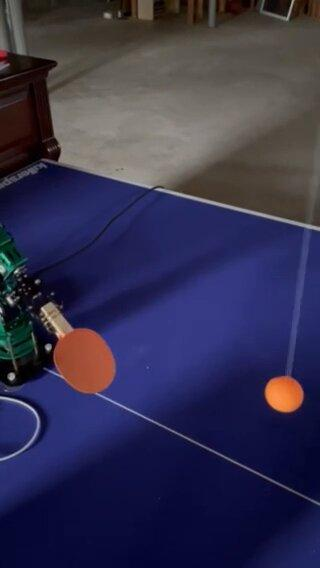oball: (263, 374, 300, 411)
